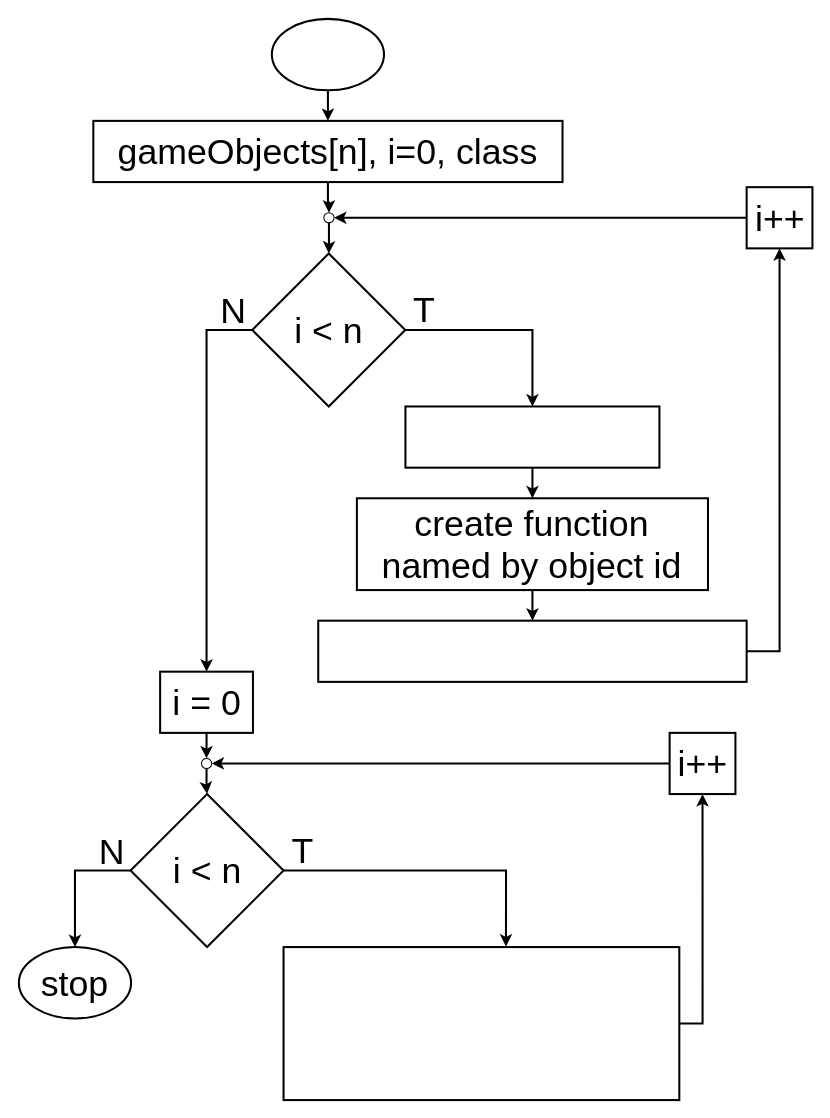
The diagram is 830 pixels wide and 1118 high, and some of its shapes have lost their labels. The shapes that lost their labels are listed below. From the top down, each one's centre as x and y in pixels, then its label:
[327,54]: start
[532,436]: validate script
[532,650]: append function to class
[481,1023]: gameObject[i].get_data = generated function with the same id
